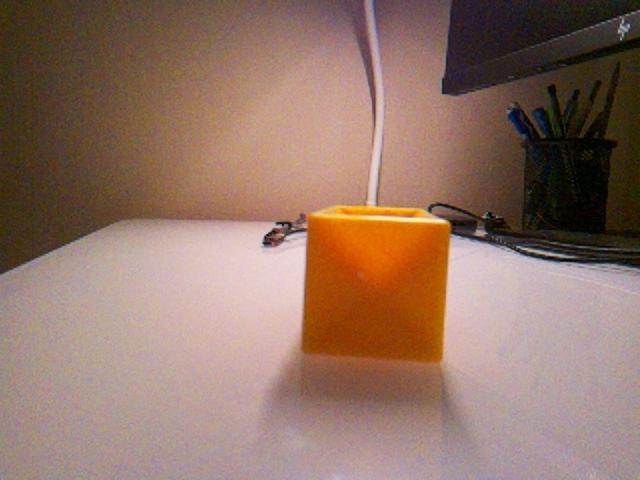yellow: (301, 204, 452, 364)
